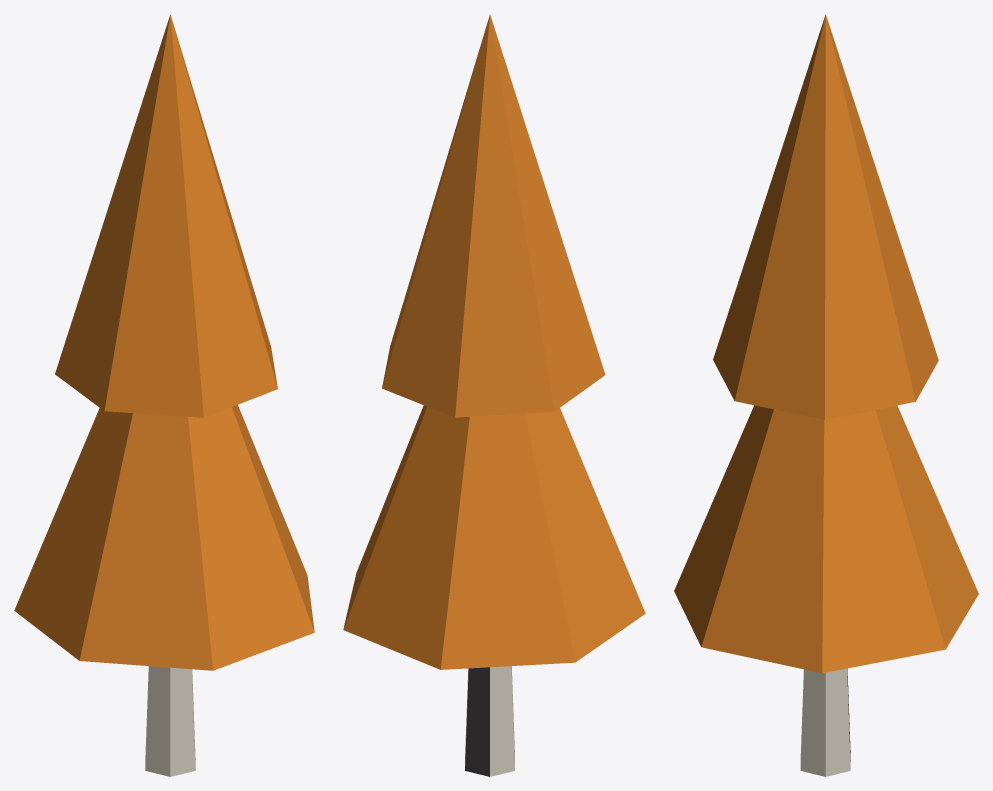
File: tree_cone_fall.glb
3 renders of one model, left to right at view 1: azimuth 30°, elevation 25°; view 2: azimuth 150°, elevation 25°; view 3: azimuth 270°, elevation 25°, orthographic.
Parts seen in each view (by area): view 1: tree_cone_fall; view 2: tree_cone_fall; view 3: tree_cone_fall.
Part boxes in pixels (bbox=[...]): tree_cone_fall: bbox=[14, 14, 314, 776]; tree_cone_fall: bbox=[343, 14, 645, 776]; tree_cone_fall: bbox=[674, 14, 978, 776].
Bounding box in the file's own units: 0.5157 × 1.43 × 0.5263.
1 material, 1 textured.
